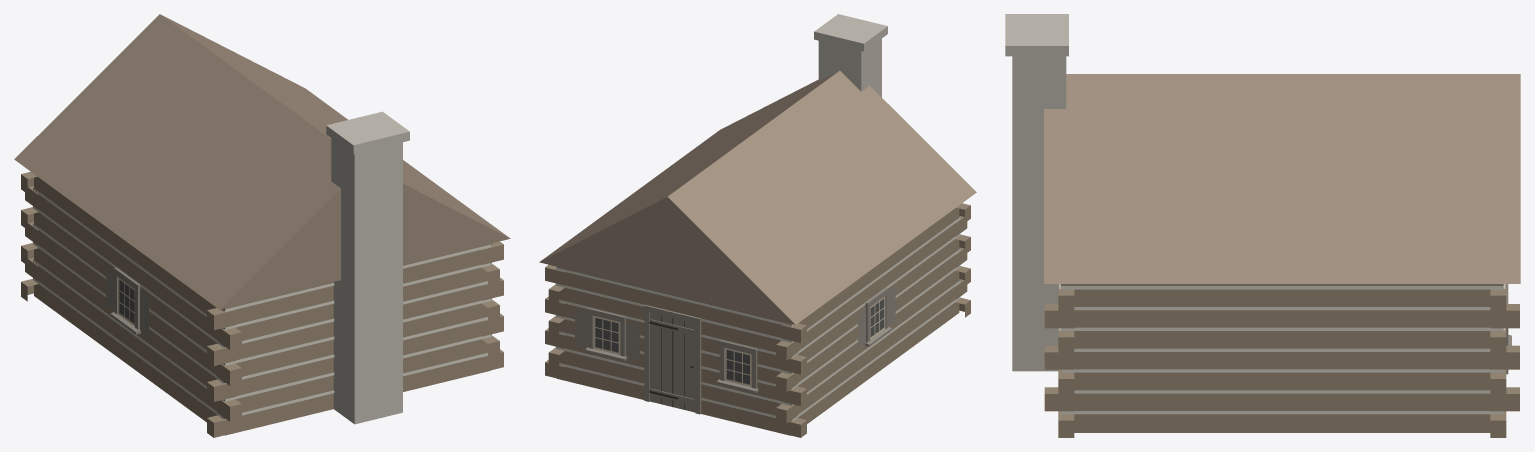
File: recon_1835_blk_randolph_clark_d1_06__inferred_1835.glb
3 renders of one model, left to right at view 1: azimuth 30°, elevation 25°; view 2: azimuth 150°, elevation 25°; view 3: azimuth 270°, elevation 25°, orthographic. The views are drawn at different scales.
Parts seen in each view (by area): view 1: recon_1835_blk_randolph_clark_d1_06__inferred_1835; view 2: recon_1835_blk_randolph_clark_d1_06__inferred_1835; view 3: recon_1835_blk_randolph_clark_d1_06__inferred_1835.
Part boxes in pixels (x1,y1,x2,y2): recon_1835_blk_randolph_clark_d1_06__inferred_1835: (14, 14, 510, 437); recon_1835_blk_randolph_clark_d1_06__inferred_1835: (539, 14, 976, 437); recon_1835_blk_randolph_clark_d1_06__inferred_1835: (1005, 14, 1520, 437).
Bounding box in the file's own units: 5.78 × 5.35 × 7.63.
